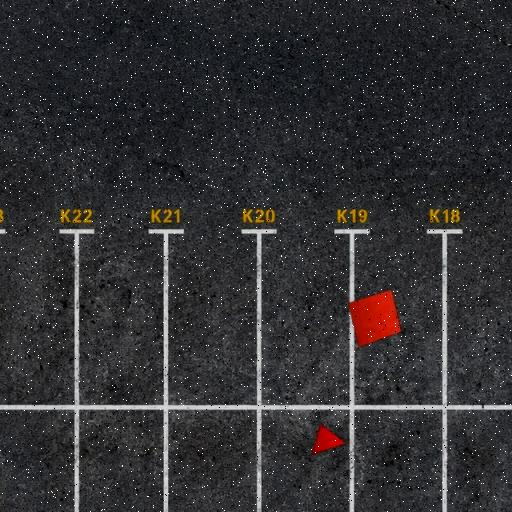RED_SQUARE: (348, 290, 402, 348)
